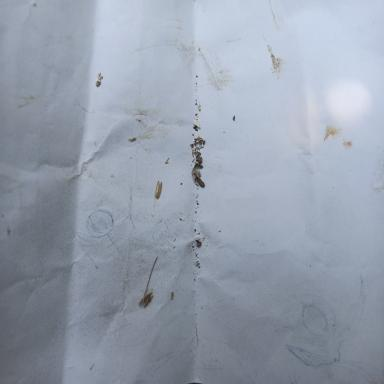pbw: (155, 180, 162, 199), (195, 177, 205, 187), (194, 171, 201, 179)
